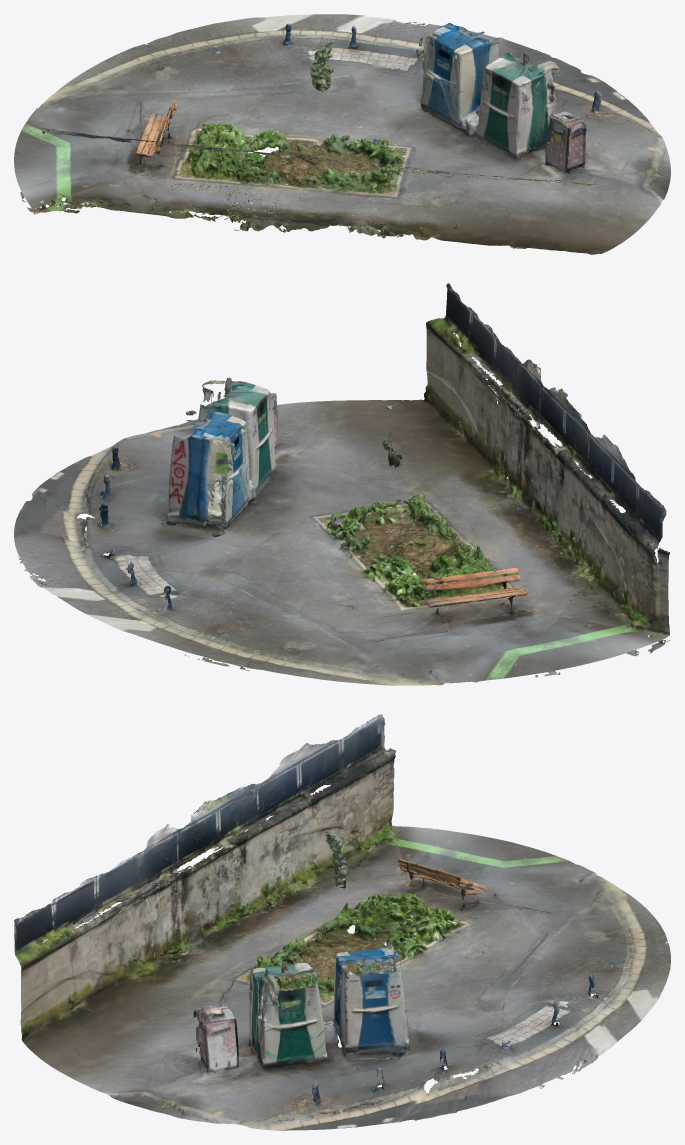
The model's file is nancy.glb.
3 views of the same model, one above another, from view 1: azimuth 30°, elevation 25°; view 2: azimuth 150°, elevation 25°; view 3: azimuth 270°, elevation 25° (orthographic). The views are drawn at different scales.
Visible parts, largest first — view 1: mesh; view 2: mesh; view 3: mesh.
Part boxes in pixels (bbox=[...]): mesh: bbox=[14, 14, 670, 254]; mesh: bbox=[14, 283, 670, 685]; mesh: bbox=[14, 714, 670, 1130].
Bounding box in the file's own units: 14.4 × 3.43 × 13.68.
1 material, 1 textured.
